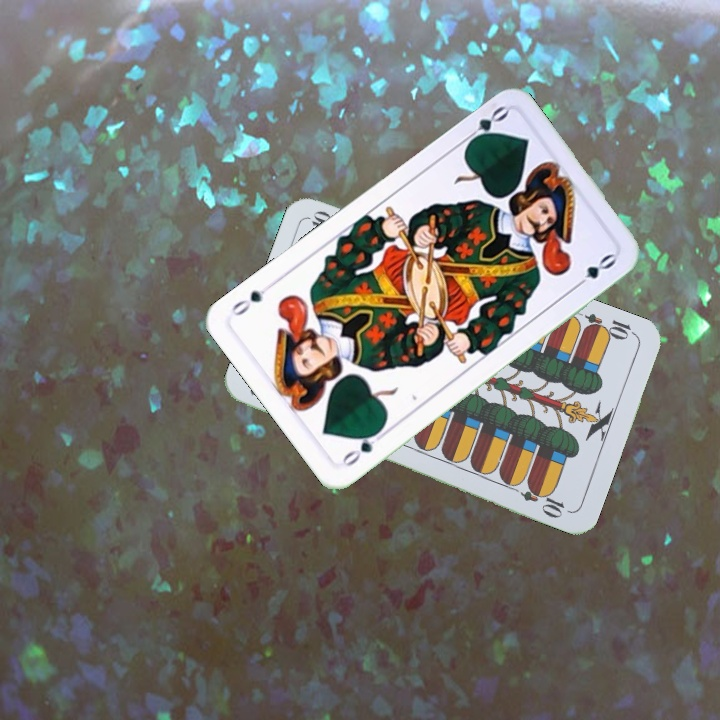E10: (580, 309, 639, 343)
GO: (458, 101, 511, 149), (337, 424, 389, 469)
